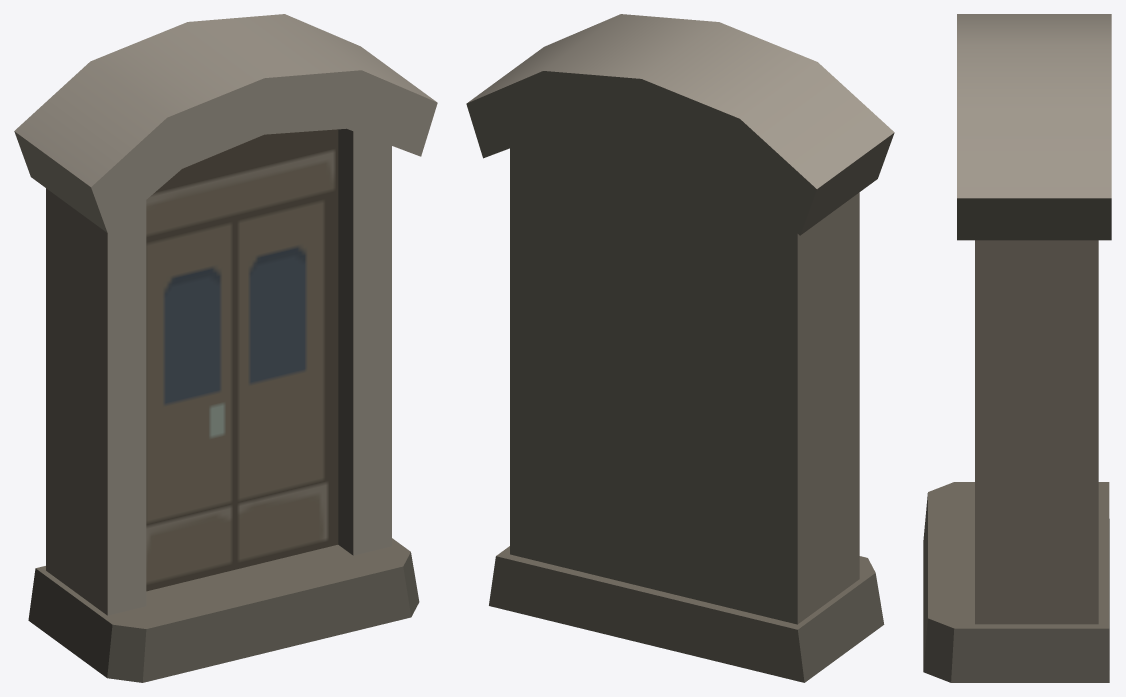
File: Door_A01.fbx
The picture shows the model from 3 angles, left to right: view 1: azimuth 30°, elevation 25°; view 2: azimuth 150°, elevation 25°; view 3: azimuth 270°, elevation 25°; orthographic projection.
Visible parts, largest first — view 1: Door_A01; view 2: Door_A01; view 3: Door_A01.
Boxes of the visible parts, x1,y1,x2,y2 form: Door_A01: (14, 14, 437, 682); Door_A01: (466, 14, 894, 682); Door_A01: (923, 14, 1111, 682).
Size of the model in its own units: 245 by 377 by 114.
